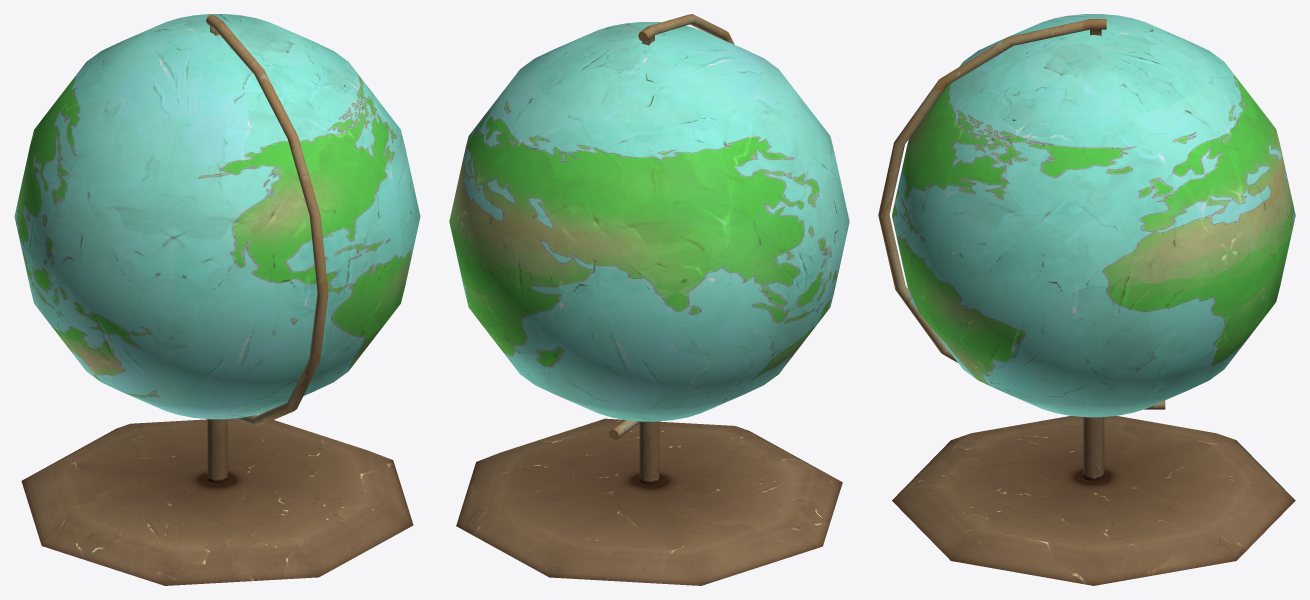
Rendered from Globe.fbx.
3 renders of one model, left to right at view 1: azimuth 30°, elevation 25°; view 2: azimuth 150°, elevation 25°; view 3: azimuth 270°, elevation 25°, orthographic.
Visible parts, largest first — view 1: Globe; view 2: Globe; view 3: Globe.
Boxes of the visible parts, <box> form: Globe: <box>14,14,420,585</box>; Globe: <box>449,14,849,585</box>; Globe: <box>878,14,1295,585</box>.
Size of the model in its own units: 200 by 263 by 207.
Materials: 1 (1 with a texture image).
